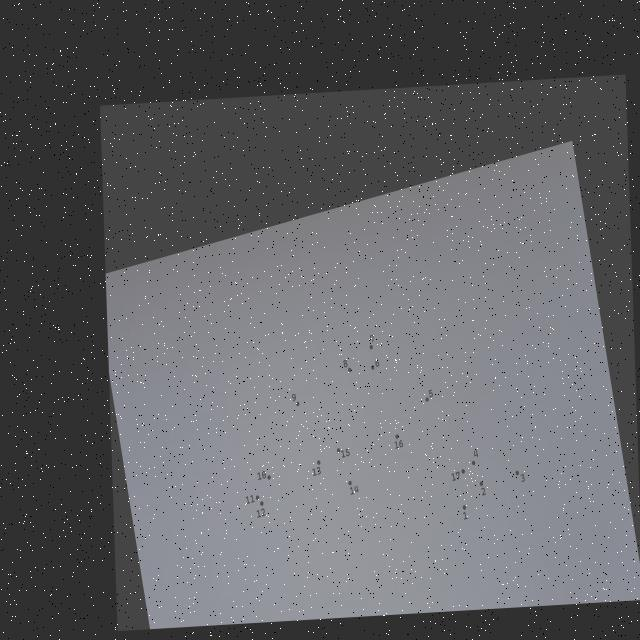Dot: (369, 344, 374, 350), (462, 505, 467, 510), (296, 401, 300, 407), (479, 482, 484, 486), (461, 469, 465, 474), (395, 434, 399, 439), (317, 460, 321, 465), (348, 481, 352, 486), (260, 501, 264, 506), (256, 495, 260, 500), (267, 475, 271, 480), (371, 365, 375, 370), (516, 470, 519, 476), (348, 367, 351, 373), (472, 460, 475, 465), (426, 397, 429, 402), (337, 448, 340, 453)
DotNumber: (256, 501, 266, 518), (451, 469, 465, 481), (348, 481, 359, 495), (394, 434, 404, 449), (312, 460, 321, 476), (257, 470, 271, 480), (337, 448, 350, 458), (246, 495, 260, 504), (292, 393, 300, 407), (343, 360, 352, 372), (425, 389, 433, 402), (516, 471, 525, 482), (371, 359, 380, 370), (472, 450, 478, 466), (480, 481, 486, 496), (462, 505, 468, 520), (369, 334, 374, 350)
Number: (394, 439, 404, 449), (256, 508, 266, 518), (451, 471, 460, 481), (341, 448, 350, 458), (350, 485, 359, 495), (245, 495, 255, 504), (257, 471, 267, 480), (312, 467, 321, 476), (481, 487, 486, 496), (463, 511, 468, 520), (428, 389, 433, 398), (520, 474, 525, 482), (343, 360, 348, 368), (370, 334, 374, 343), (292, 394, 296, 402), (375, 359, 379, 367), (474, 450, 478, 457)
